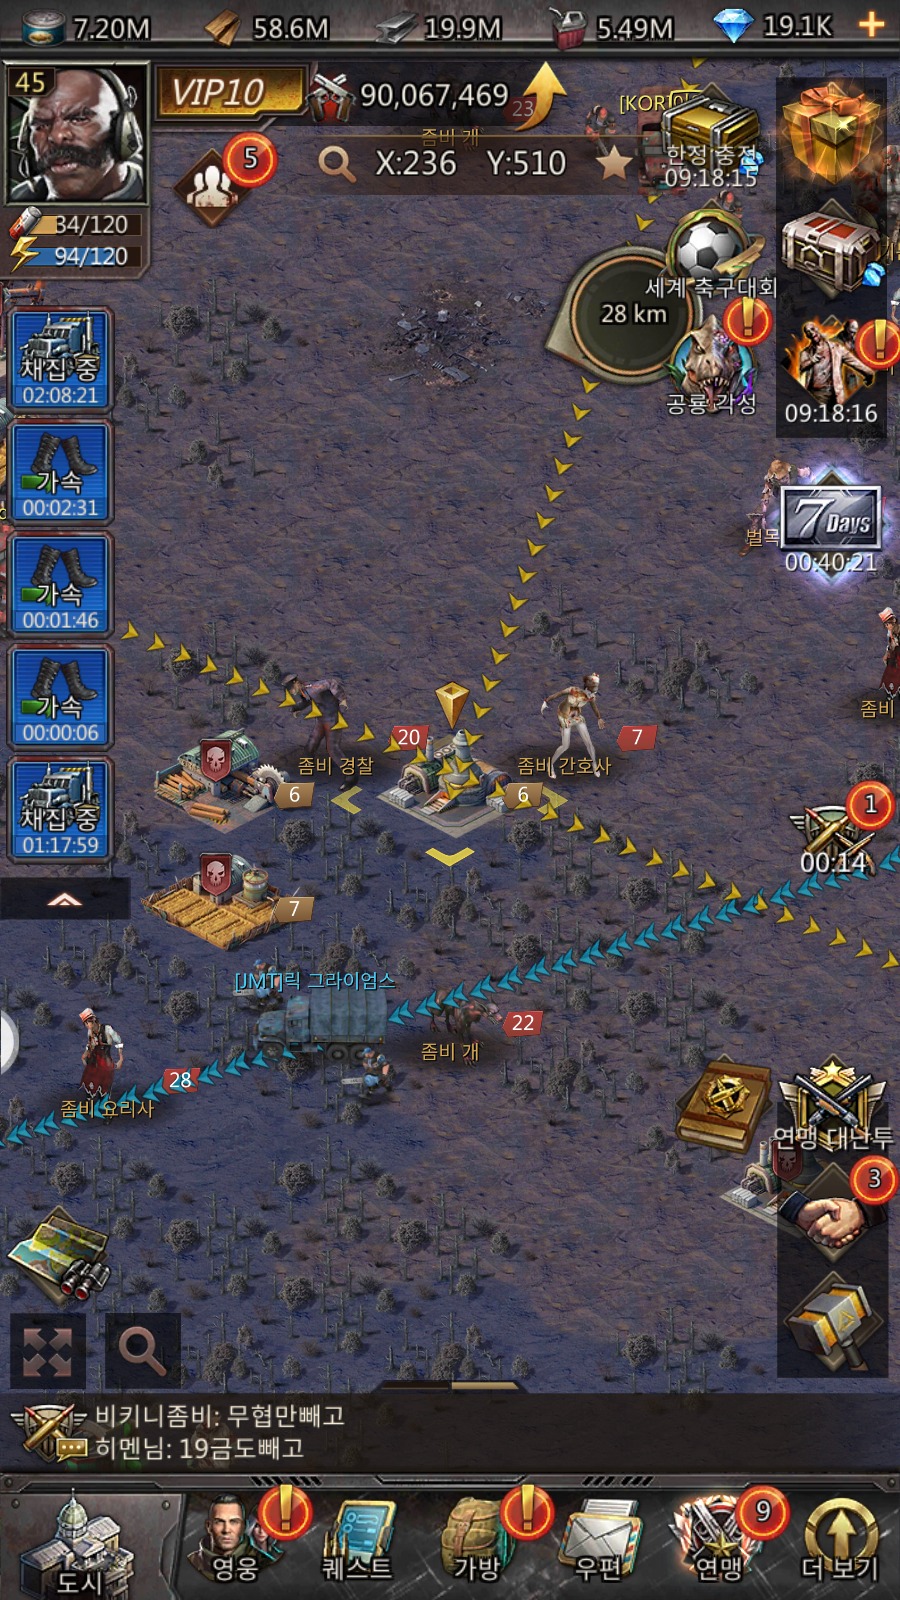city: (15, 1491, 163, 1600)
occupied_steel: (312, 663, 598, 884)
open_panel: (93, 1302, 195, 1402)
troops_cnt_5: (147, 122, 295, 247)
